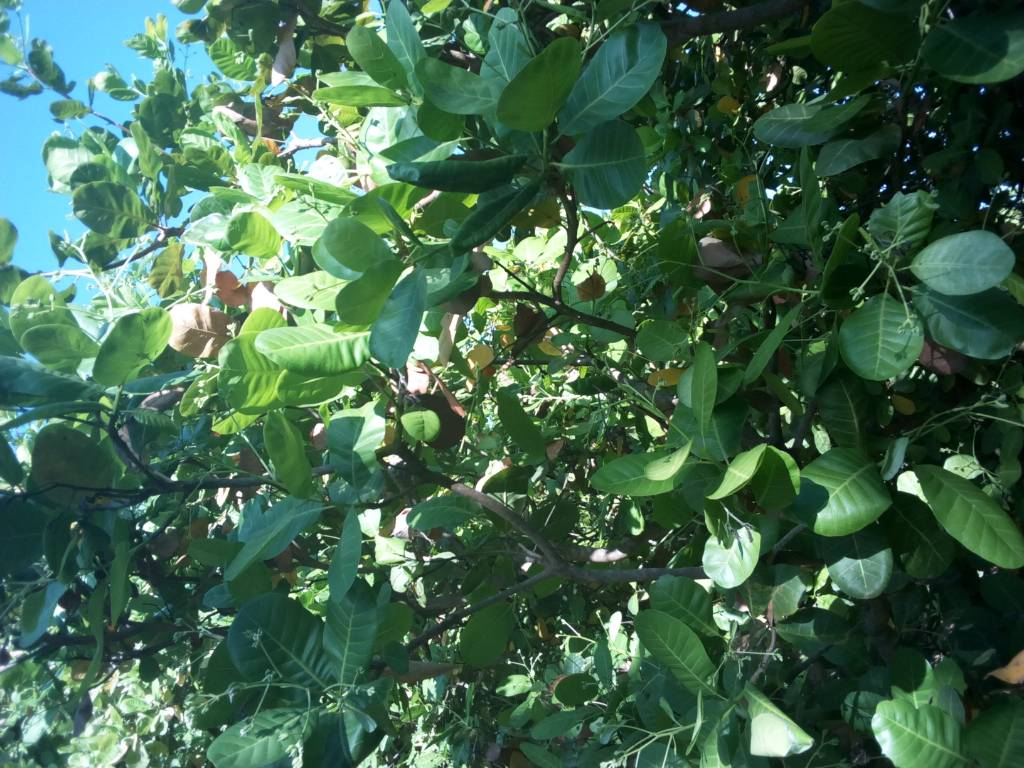Dessèchement des bourgeons: (494, 242, 587, 352)
